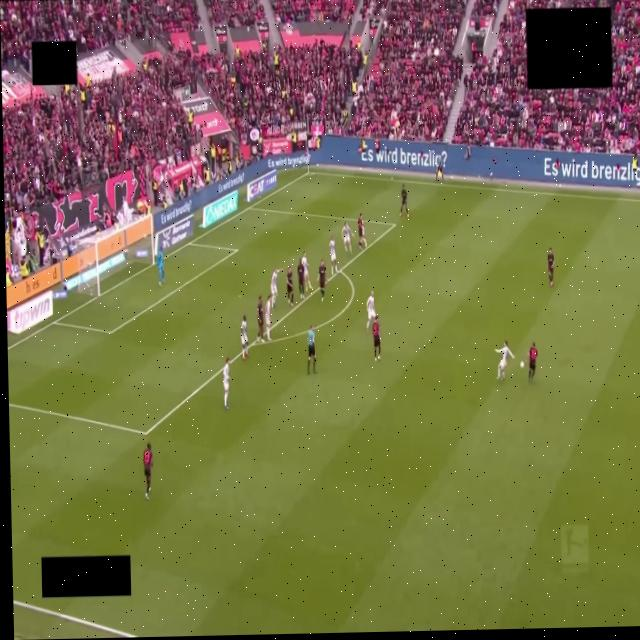ball: (520, 362, 524, 368)
player: (495, 341, 514, 380), (143, 443, 152, 500), (222, 358, 230, 410), (240, 314, 249, 360), (301, 252, 312, 289), (271, 268, 281, 307), (366, 291, 375, 331), (329, 235, 338, 275), (372, 317, 380, 361), (318, 260, 326, 301), (257, 296, 264, 342), (342, 222, 352, 253), (297, 261, 305, 299), (529, 342, 537, 380), (286, 266, 293, 306), (157, 245, 164, 285), (358, 214, 366, 248), (265, 295, 271, 340), (400, 184, 408, 217), (547, 249, 554, 286)
referee: (307, 326, 315, 374)
